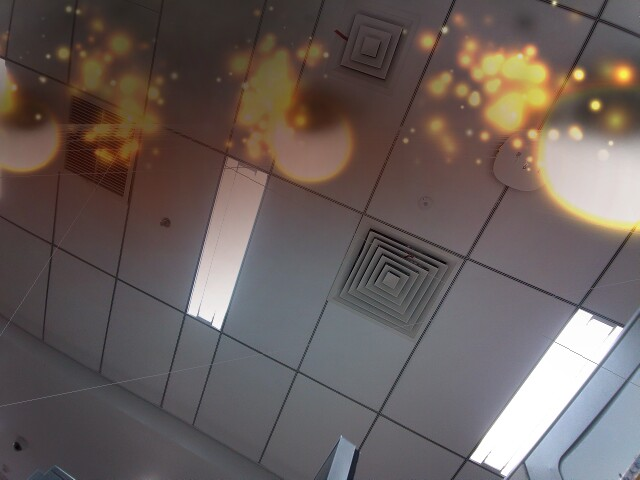fire: (286, 115, 344, 165), (0, 116, 43, 158)
firebig: (566, 111, 639, 200)
